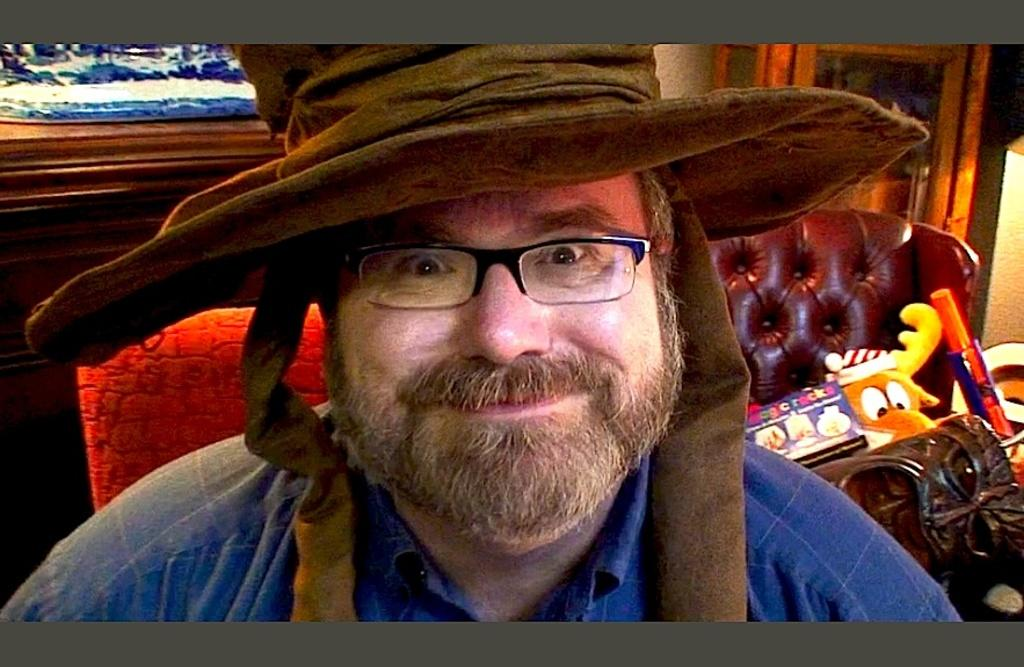Hat: (21, 38, 927, 623)
